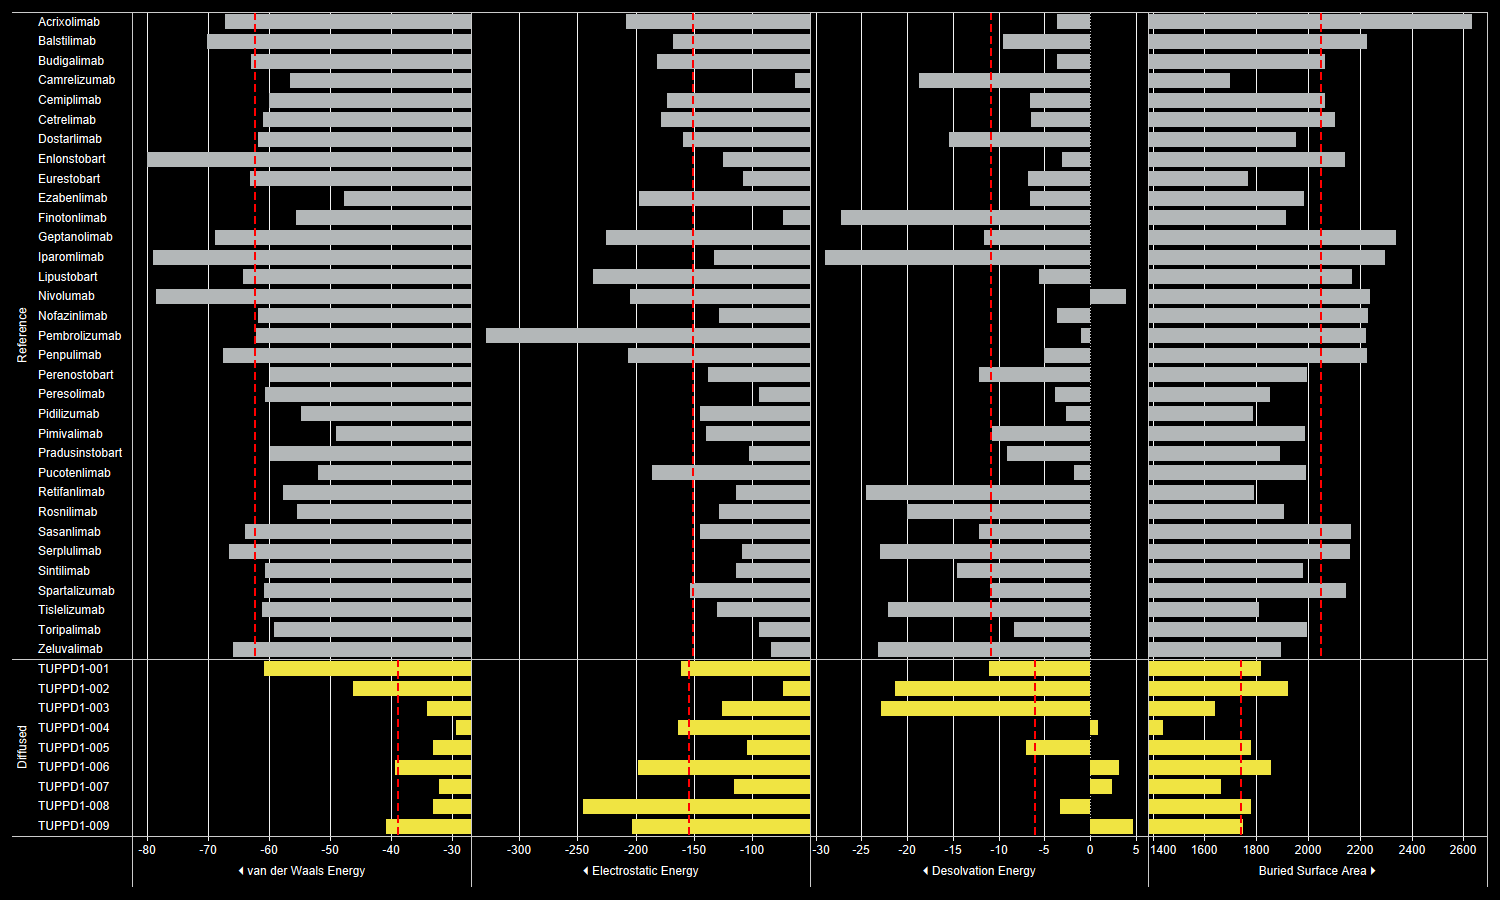

The dashboard page shown, as its layout file describes it:
{"tool":"tableau","page":{"name":"Dashboard 1","canvas":[1500,900],"ordinal":0},"visuals":[{"type":"worksheet","title":"All Metrics Barchart","mark":"Automatic","rows":["antibody_sequence_source","antibody_id"],"cols":["haddock_Evdw","haddock_Eelec","haddock_Edesolv","haddock_BSA"],"box":[8,8,1484,884]}]}

Visuals, with their boxes in screenshot pixels (x1, y1, x2, y2), scaled from the page's 1500x900 canvas onto the 1500x900 screenshot:
"All Metrics Barchart" worksheet: left=8, top=8, right=1492, bottom=892
